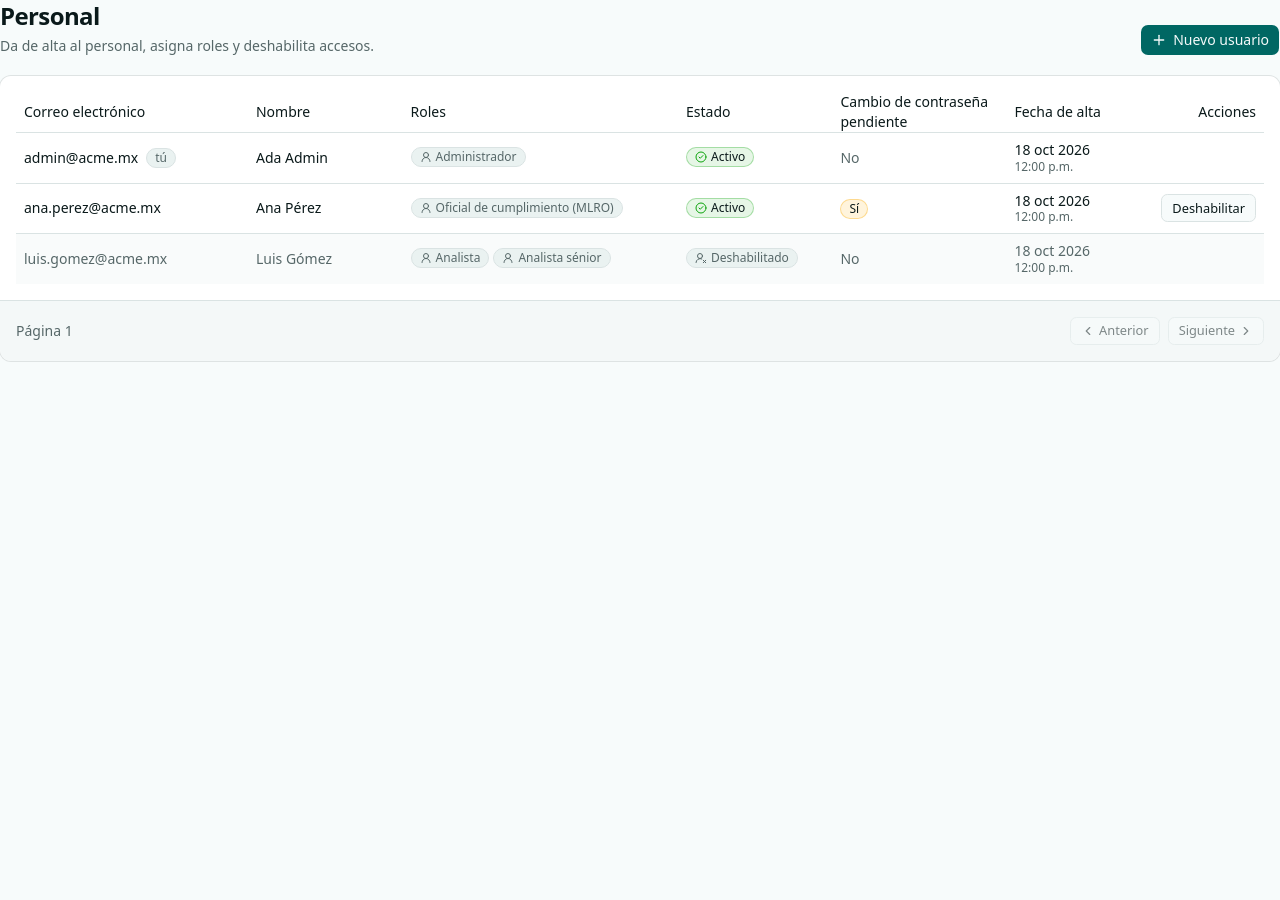
Test: StaffPage: disabling › surfaces the 409 in the dialog, in our words, when the API refuses to disable the caller
Expected: the text "ana.perez@acme.mx" is shown, [24,198,161,218]
What coordinates should you click on to do the following:
click the button with aria-label "Deshabilitar a Ana Pérez"
I would click on:
 (1209, 208)
Its box is [1161,194,1256,222].
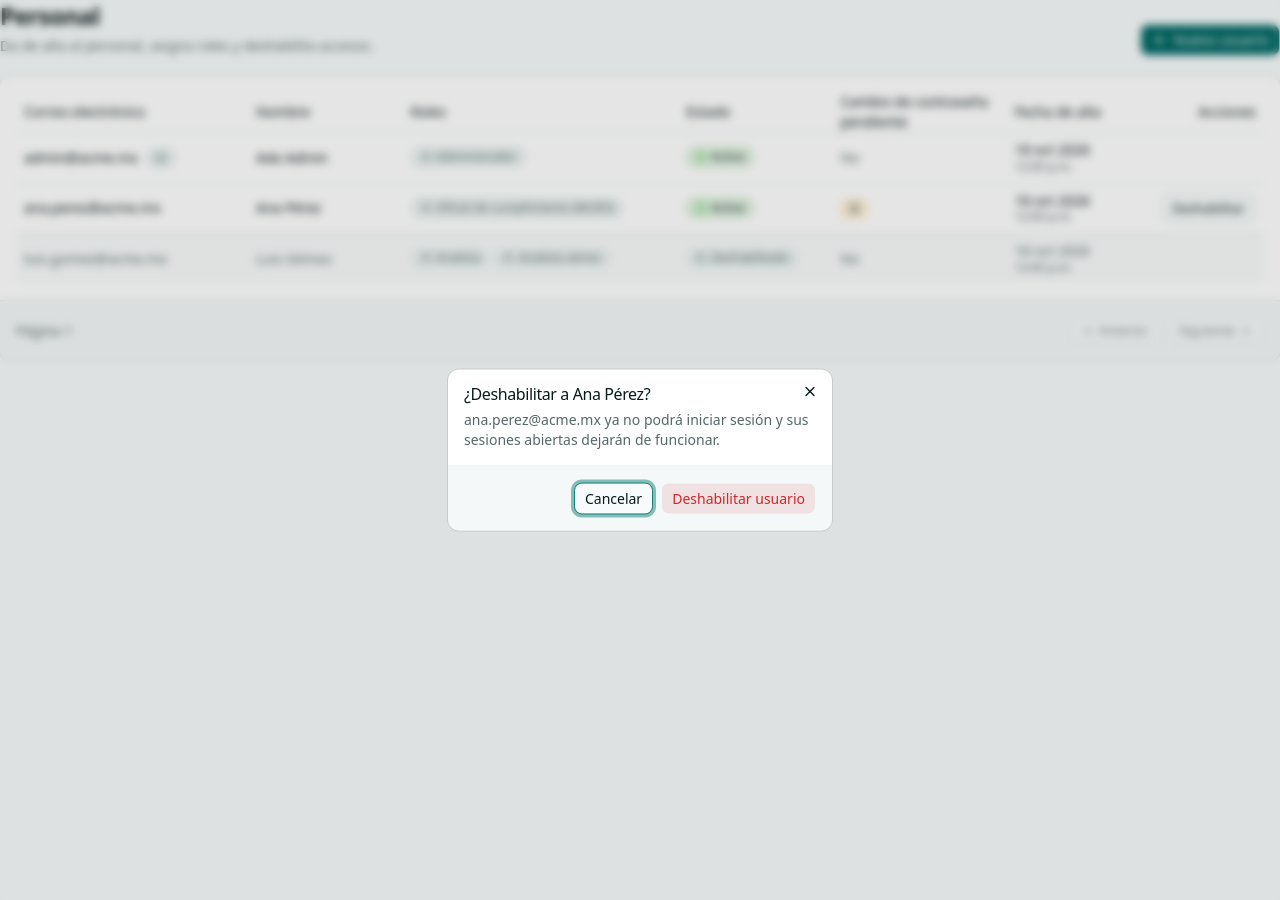
What coordinates should you click on to do the following:
click the button "Deshabilitar usuario"
I would click on:
 (739, 498)
Its box is [661,482,816,514].
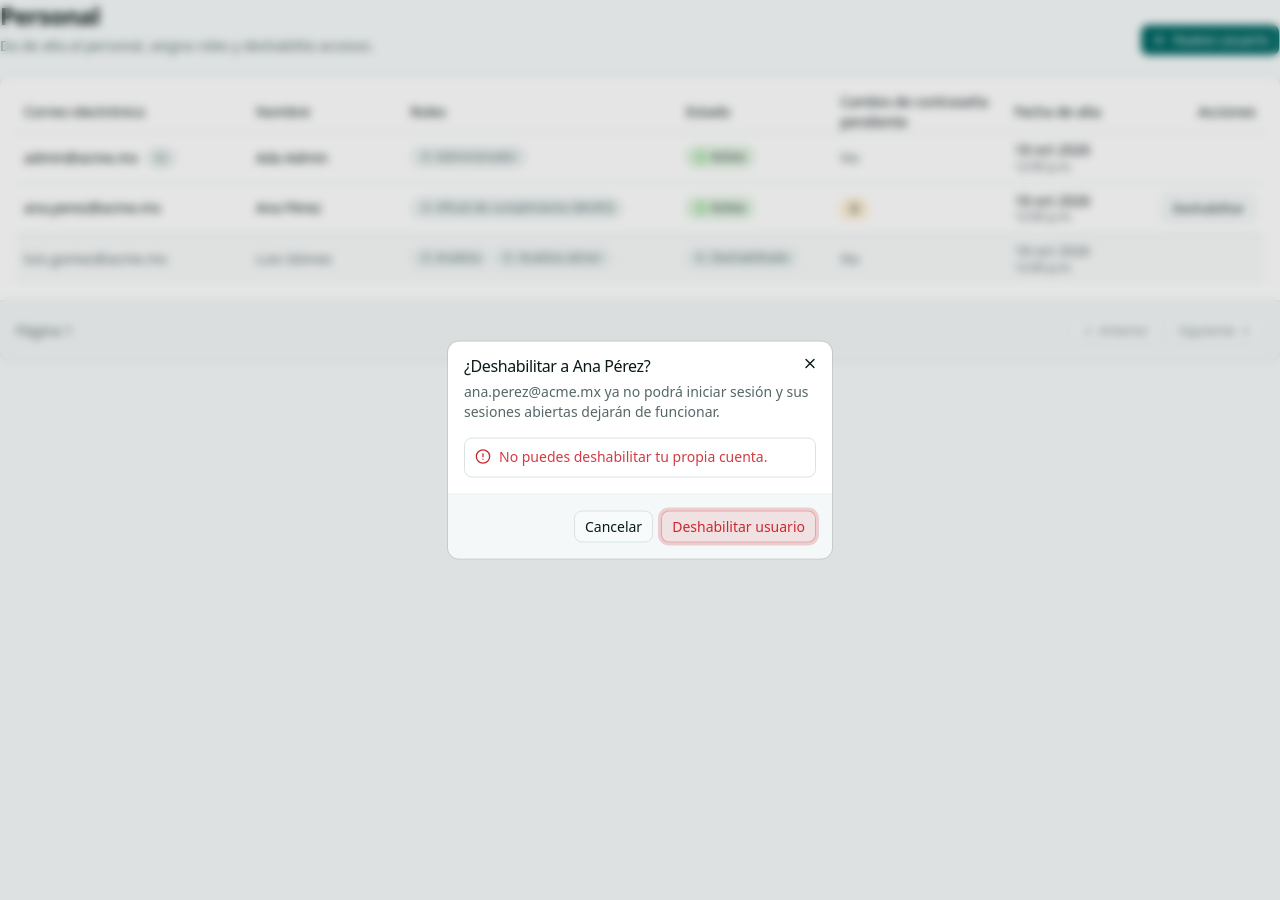
Expected: the message reads "No puedes deshabilitar tu propia cuenta.", [499,446,768,466]
